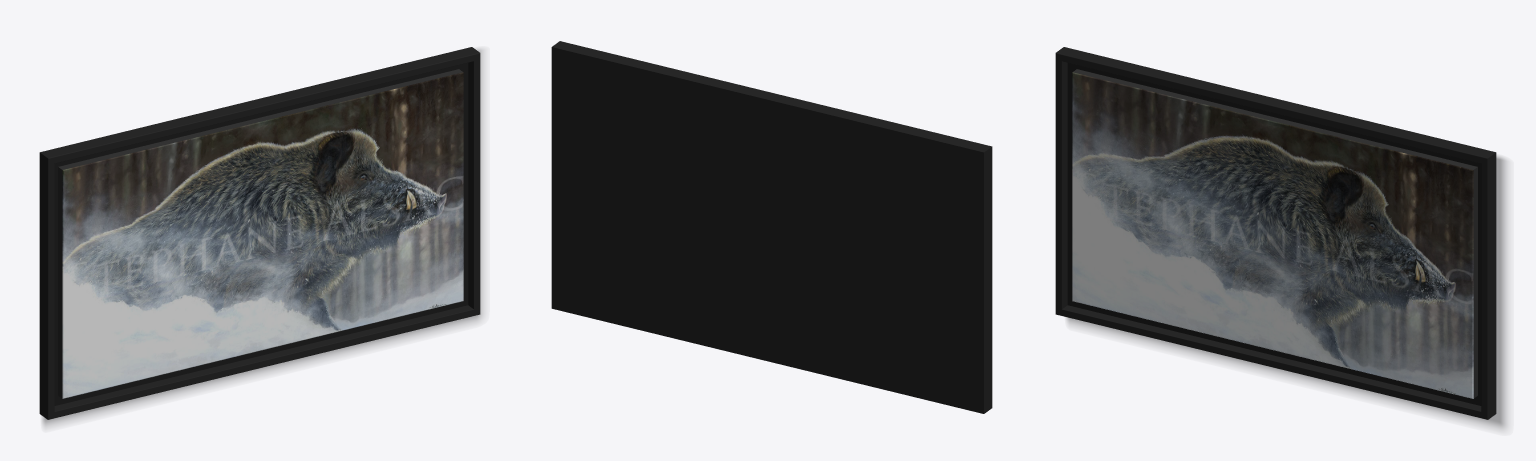
File: bad-lieutenant-grand-30275581.glb
The picture shows the model from 3 angles, left to right: view 1: azimuth 30°, elevation 25°; view 2: azimuth 150°, elevation 25°; view 3: azimuth 330°, elevation 25°; orthographic projection.
Parts seen in each view (by area): view 1: Painting; view 2: Painting; view 3: Painting.
Part boxes in pixels (x1,y1,x2,y2): Painting: (39,47,482,426); Painting: (551,41,992,413); Painting: (1055,47,1506,428).
Size of the model in its own units: 1.33 by 0.826 by 0.04.
Materials: 5 (3 with a texture image).
